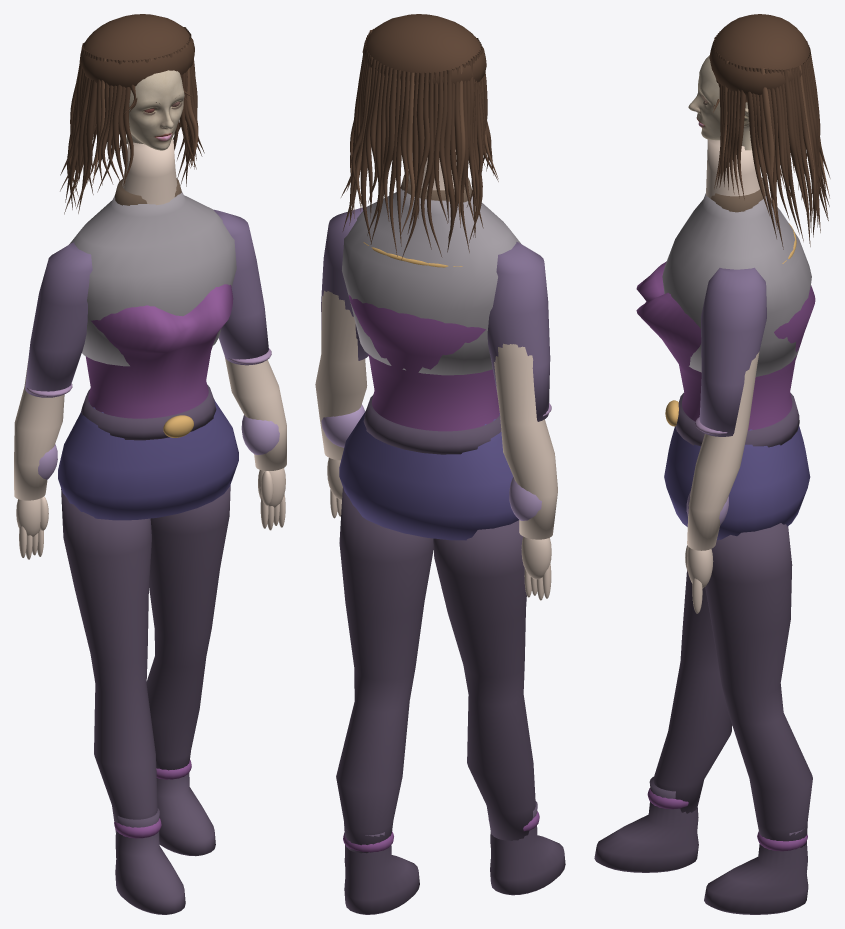
The model's file is katie_walk_4.glb.
3 renders of one model, left to right at view 1: azimuth 30°, elevation 25°; view 2: azimuth 150°, elevation 25°; view 3: azimuth 270°, elevation 25°, orthographic. The views are drawn at different scales.
Visible parts, largest first — view 1: Continuous trouser leg, Katie linen underlayer, Continuous trouser leg.001, Fitted hip panel, Violet sweetheart bodice, Katie hair locks, Katie smooth sleeve, Katie hair crown, Fitted boot, Katie smooth sleeve.001, Continuous arm, Fitted boot.001 (+8 smaller); view 2: Continuous trouser leg.001, Continuous trouser leg, Katie linen underlayer, Katie hair locks, Fitted hip panel, Violet sweetheart bodice, Continuous arm, Katie smooth sleeve, Katie hair crown, Continuous arm.001, Fitted boot.001, Fitted boot (+6 smaller); view 3: Continuous trouser leg.001, Katie linen underlayer, Katie hair locks, Continuous trouser leg, Katie smooth sleeve.001, Fitted hip panel, Violet sweetheart bodice, Katie hair crown, Fitted boot, Fitted boot.001, Continuous arm.001, Imported Katie katie (+6 smaller).
Part boxes in pixels (box(x1,y1,x2,y2)): Continuous trouser leg: box(61, 489, 157, 832); Katie linen underlayer: box(69, 191, 236, 366); Continuous trouser leg.001: box(146, 485, 230, 770); Fitted hip panel: box(58, 399, 238, 520); Violet sweetheart bodice: box(85, 284, 233, 418); Katie hair locks: box(60, 28, 204, 214); Katie smooth sleeve: box(25, 242, 92, 397); Katie hair crown: box(79, 14, 194, 89); Fitted boot: box(115, 808, 185, 914); Katie smooth sleeve.001: box(213, 209, 268, 365); Continuous arm: box(14, 361, 64, 500); Fitted boot.001: box(156, 773, 215, 856); Continuous trouser leg.001: box(336, 487, 433, 853); Continuous trouser leg: box(433, 520, 535, 840); Katie linen underlayer: box(342, 189, 520, 375); Katie hair locks: box(341, 28, 498, 260); Fitted hip panel: box(339, 411, 518, 540); Violet sweetheart bodice: box(349, 295, 499, 431); Continuous arm: box(494, 343, 557, 539); Katie smooth sleeve: box(487, 242, 550, 421); Katie hair crown: box(362, 14, 486, 85); Continuous arm.001: box(315, 290, 367, 460); Fitted boot.001: box(344, 825, 419, 914); Fitted boot: box(490, 801, 565, 895); Continuous trouser leg.001: box(705, 523, 812, 847); Katie linen underlayer: box(662, 193, 811, 376); Katie hair locks: box(712, 31, 830, 249); Continuous trouser leg: box(653, 570, 732, 813); Katie smooth sleeve.001: box(699, 267, 766, 436); Fitted hip panel: box(664, 425, 810, 540); Violet sweetheart bodice: box(636, 261, 815, 430); Katie hair crown: box(709, 14, 809, 102); Fitted boot: box(594, 776, 698, 872); Fitted boot.001: box(704, 828, 808, 914); Continuous arm.001: box(687, 351, 759, 550); Imported Katie katie: box(688, 55, 751, 150).
Size of the model in its own units: 0.6866 by 2.23 by 0.5558.
15 materials, 2 textured.
